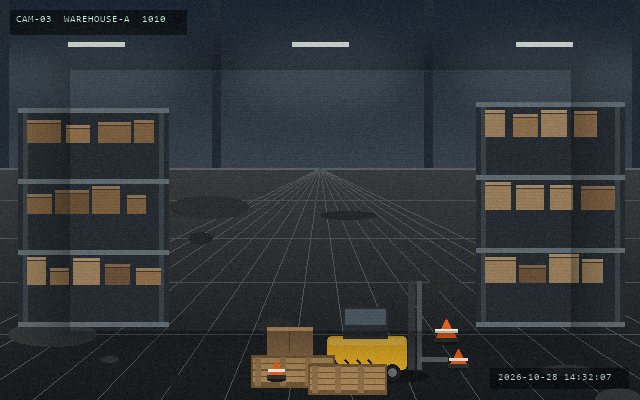cone: (433, 317, 459, 344), (447, 347, 469, 370), (266, 359, 286, 381)
forklift: (323, 279, 449, 383)
pallet: (249, 353, 336, 389), (306, 362, 388, 396)
shelf: (476, 102, 624, 322), (18, 108, 168, 322)
